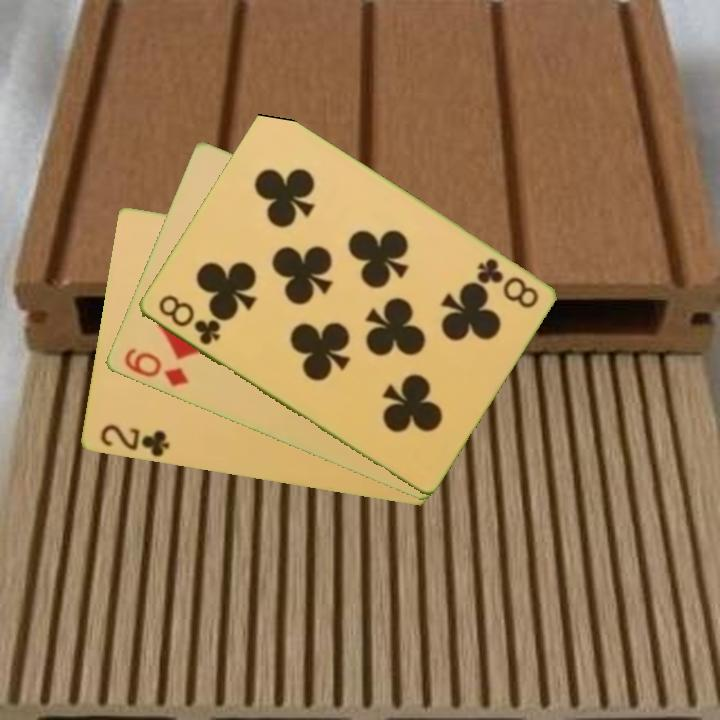2c: (96, 421, 172, 460)
6d: (120, 344, 191, 390)
8c: (472, 254, 541, 312), (154, 291, 223, 348)
